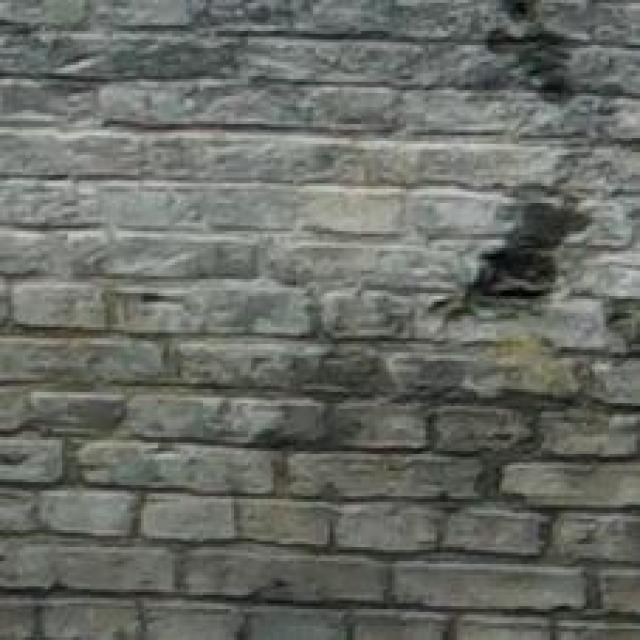Crack: (443, 0, 640, 453)
